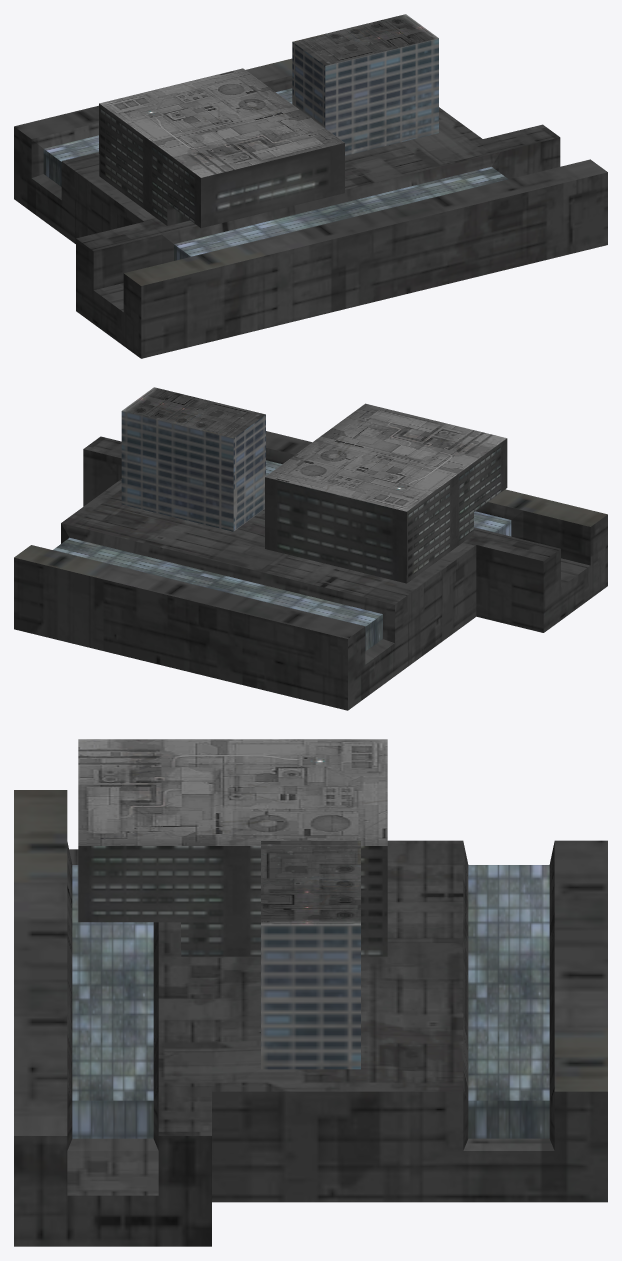
The model's file is scifi_building_52.obj.
The picture shows the model from 3 angles, top to bottom: view 1: azimuth 30°, elevation 25°; view 2: azimuth 150°, elevation 25°; view 3: azimuth 270°, elevation 25°; orthographic projection. The views are drawn at different scales.
Visible parts, largest first — view 1: building_52; view 2: building_52; view 3: building_52.
Part boxes in pixels (x1=…): building_52: x1=14, y1=14, x2=607, y2=358; building_52: x1=14, y1=387, x2=607, y2=710; building_52: x1=14, y1=739, x2=607, y2=1246.
Size of the model in its own units: 147 by 50.77 by 107.
1 material, 1 textured.
